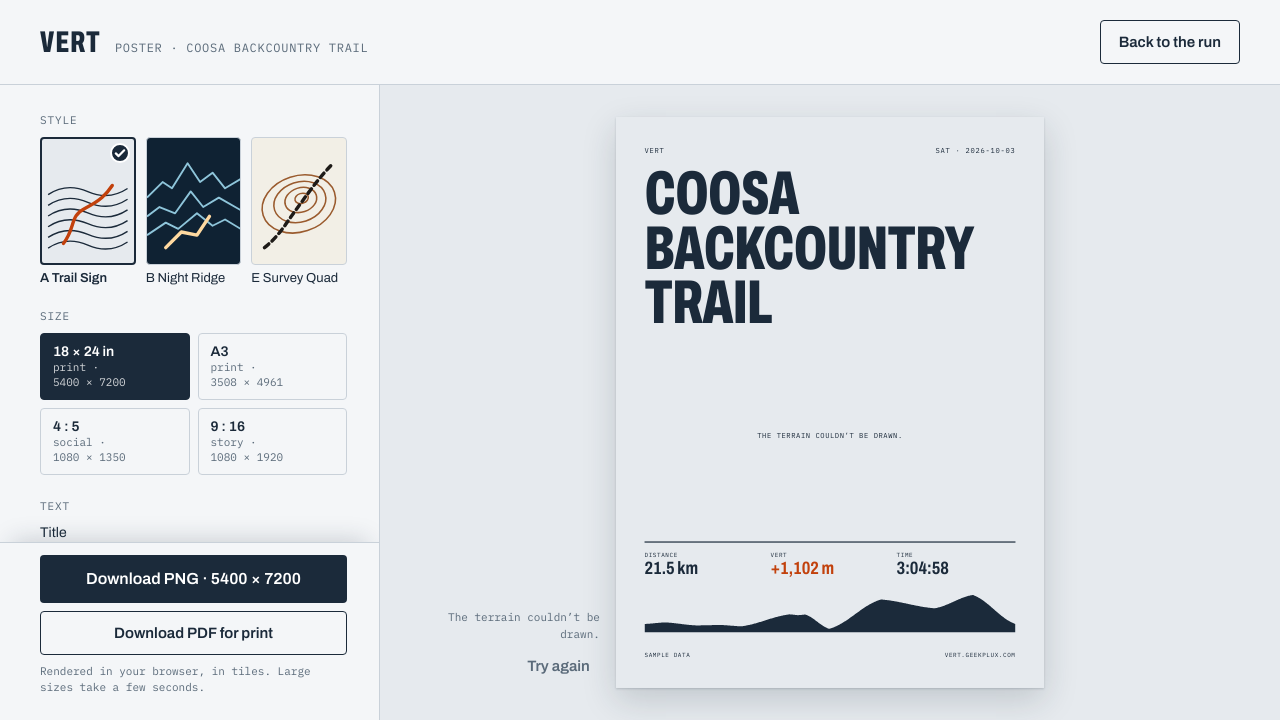
Test case: Live poster figures › A drawn from the View’s grid: Try again and Download build the run’s terrain again
Expected: the button "Try again" is shown, [517,644,600,688]
Expected: the text "The terrain couldn’t be drawn." below "SAT · 2026-10-03" is shown, [757,431,903,440]
Click the button "Download PNG · 5400 × 7200" at [194, 579], box [40,555,347,603]
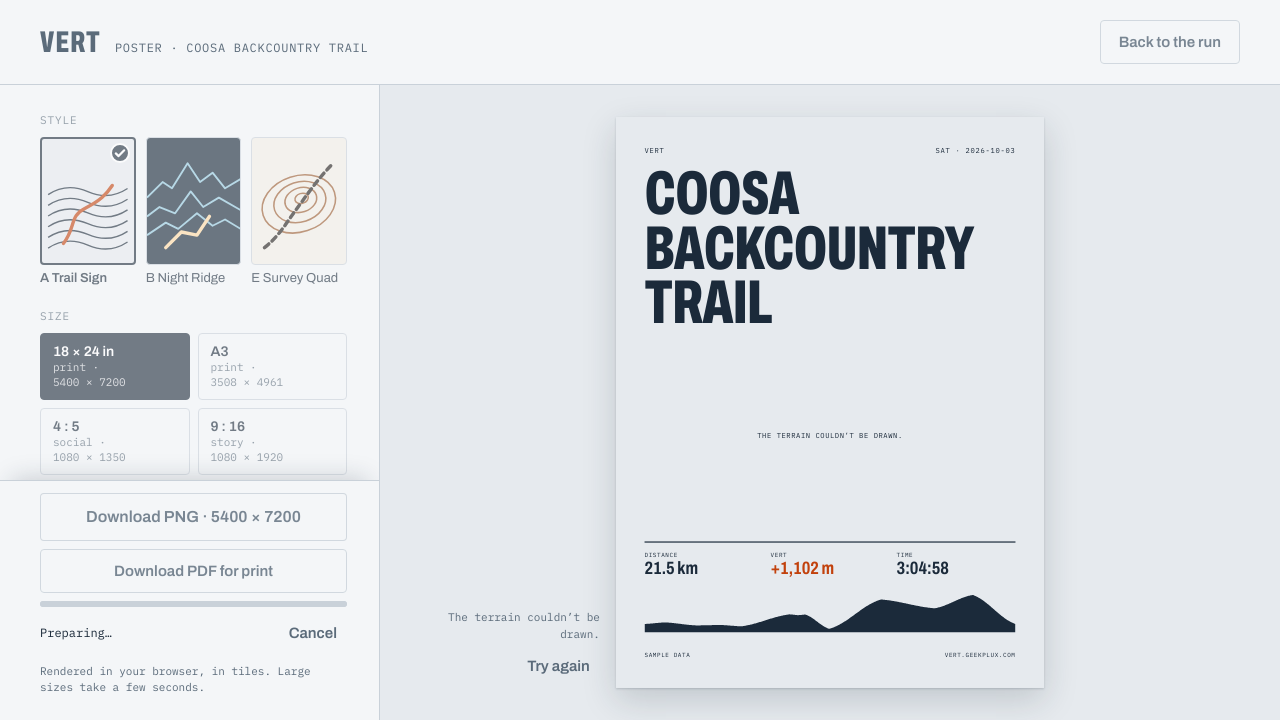
Click the button "Try again" at [559, 666], box [517,644,600,688]
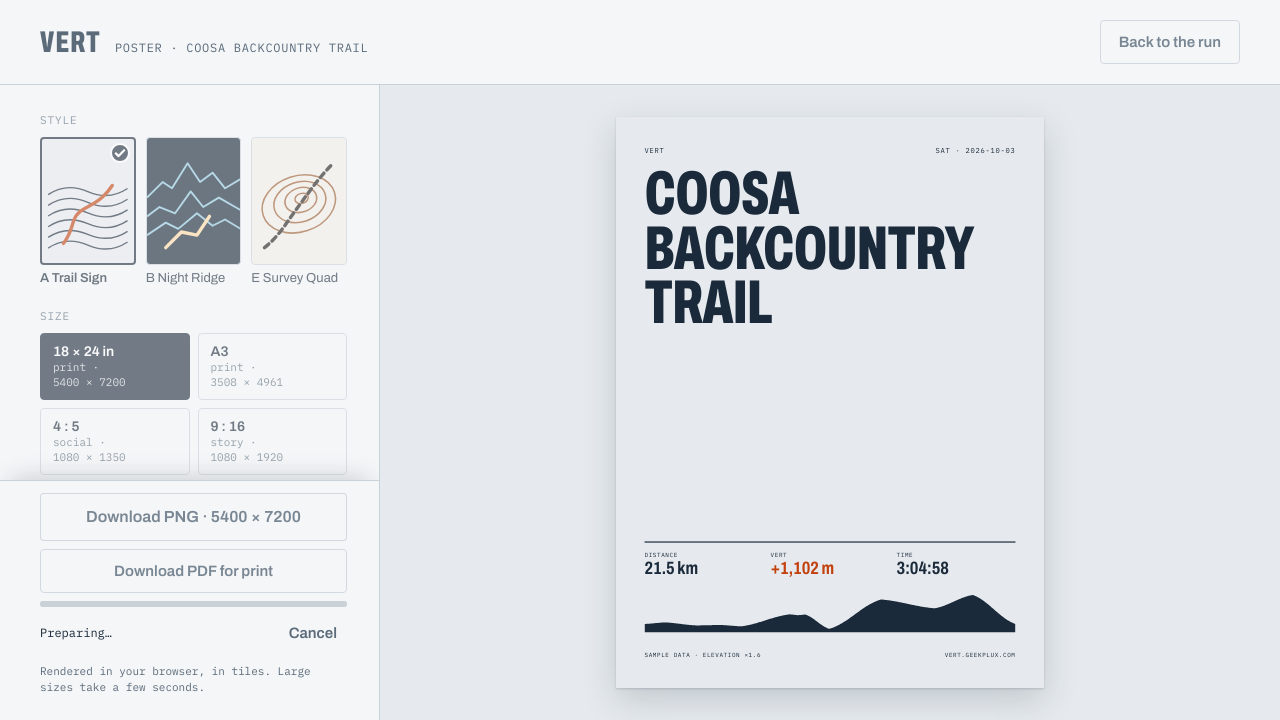
Now the button "Try again" is gone
